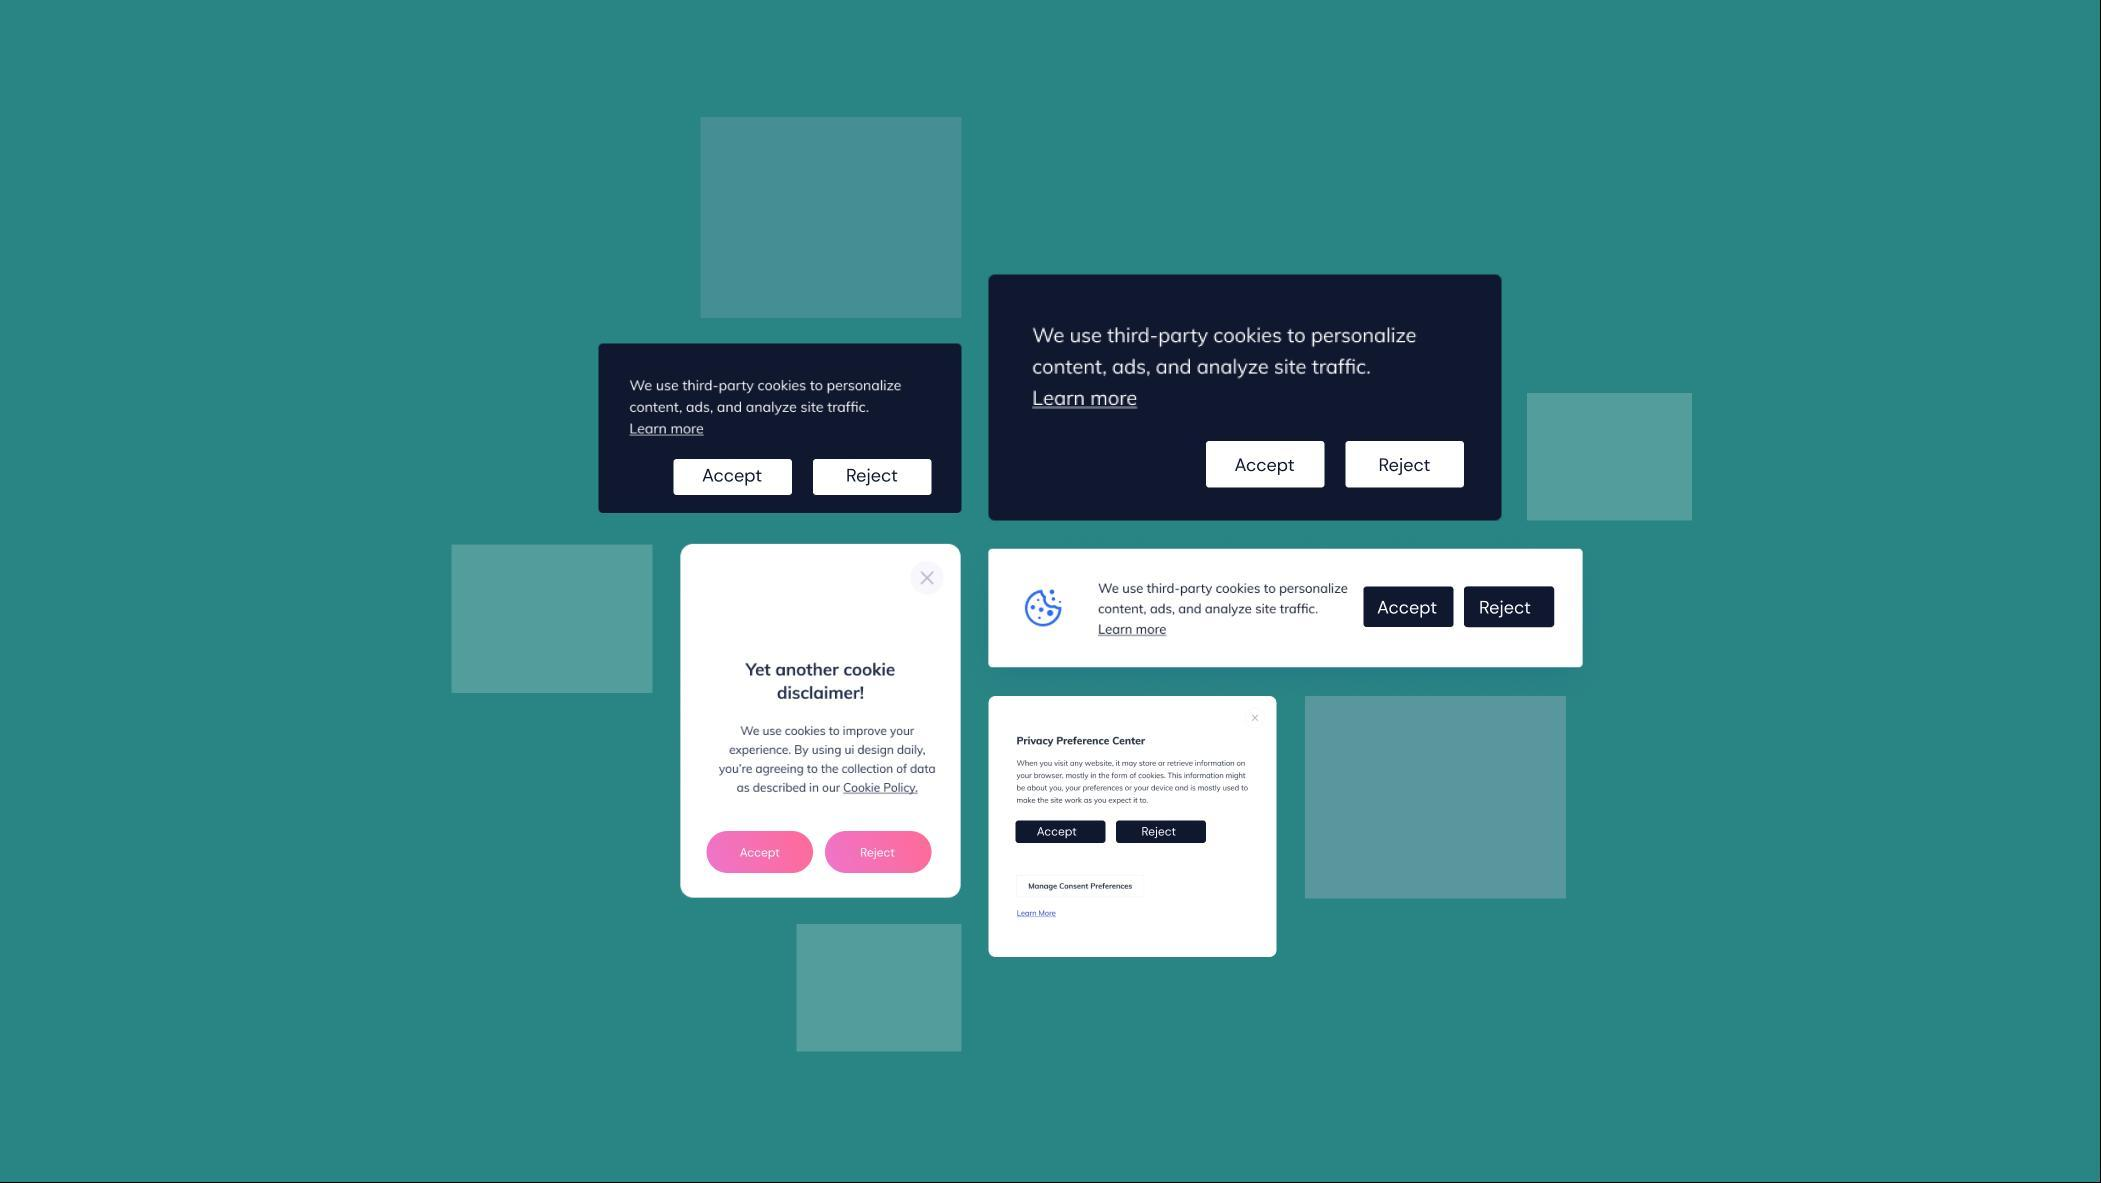button: (1205, 441, 1323, 491), (1345, 441, 1465, 488), (709, 831, 814, 876), (672, 460, 794, 498), (825, 832, 935, 873), (812, 462, 932, 496), (1365, 589, 1455, 628), (1465, 589, 1556, 626), (1014, 819, 1105, 845), (1118, 821, 1208, 844)
